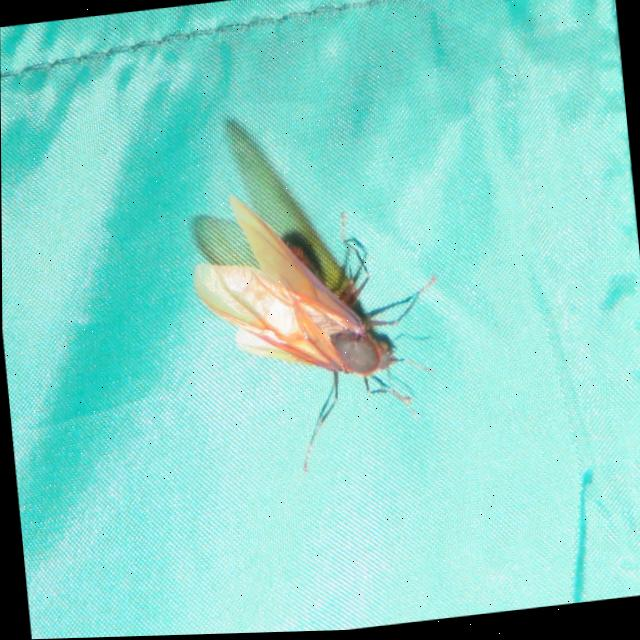Alive-Male-Alate: (184, 173, 454, 487)
